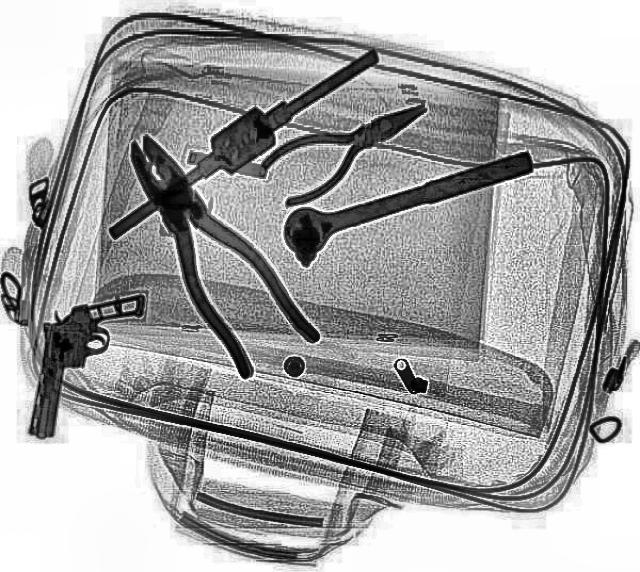Gun: (25, 286, 141, 444)
Pliers: (100, 116, 326, 380), (251, 82, 447, 210)
